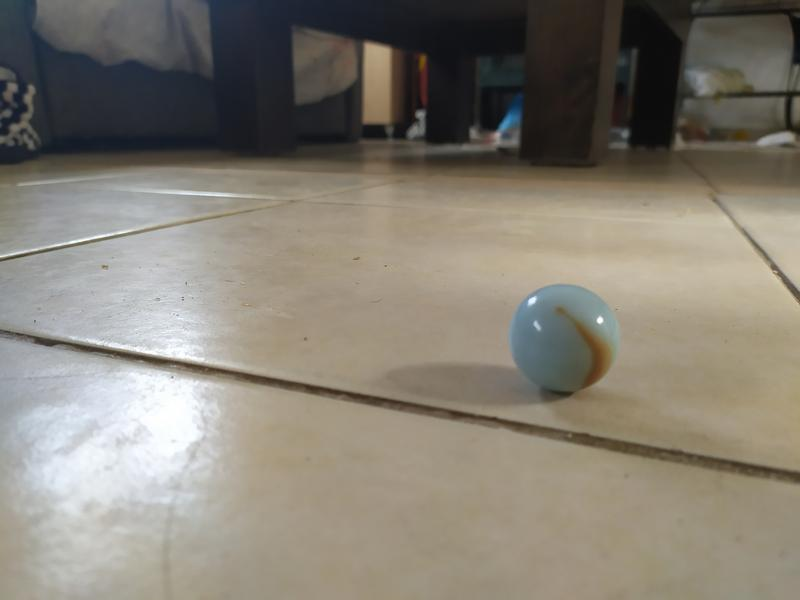Warning: (505, 280, 626, 397)
